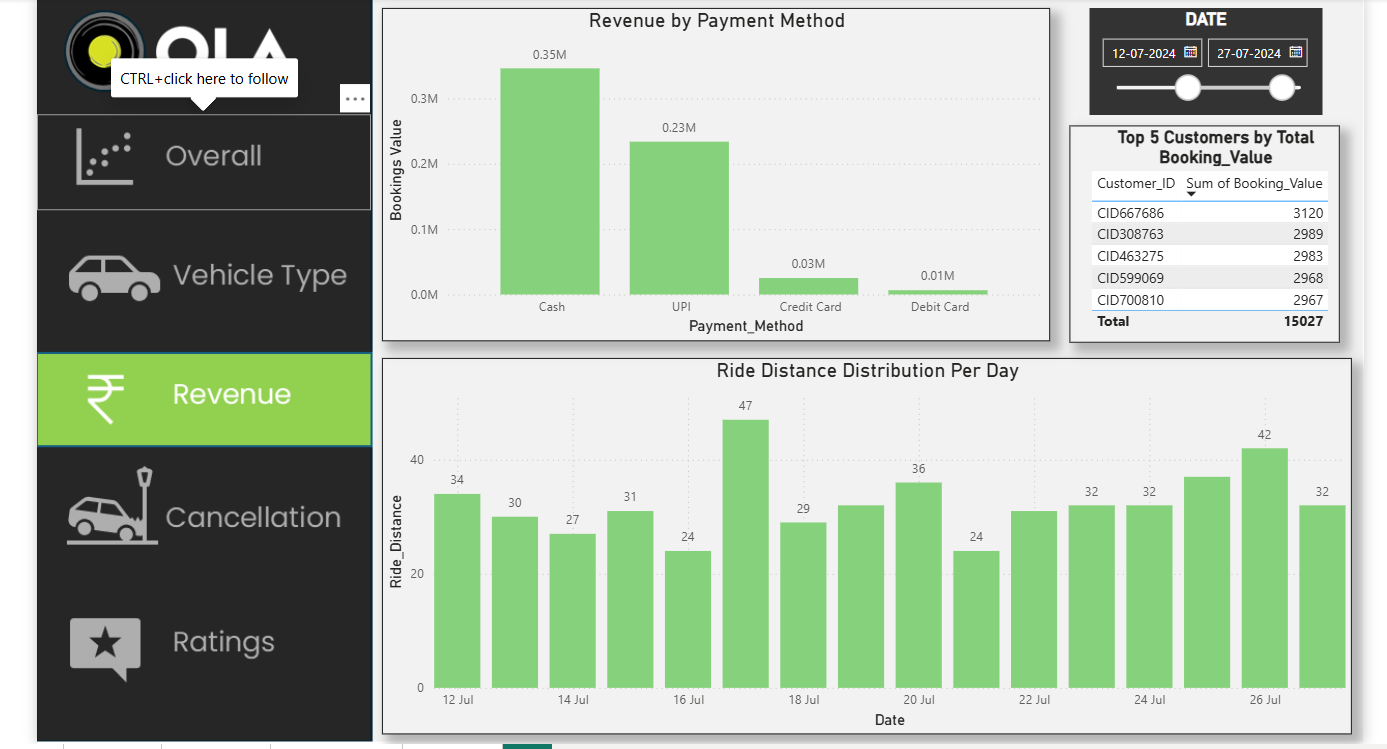

Layout of this report page (visuals, bound fields, positions):
{"tool":"powerbi","page":{"name":"Revenue","canvas":[1280,720],"ordinal":2},"visuals":[{"type":"actionButton","box":[0,223.8,322.5,92.5],"z":0},{"type":"actionButton","box":[0,446.2,322.5,92.5],"z":1000},{"type":"actionButton","box":[0,582.5,322.5,92.5],"z":2000},{"type":"actionButton","box":[0,112.5,322.5,92.5],"z":3000},{"type":"columnChart","title":"Revenue by Payment Method","fields":{"Category":["Bookings.Payment_Method"],"Y":["Sum(Bookings.Booking_Value)"]},"box":[333.3,10.1,644.9,321.7],"z":4000},{"type":"columnChart","title":"Ride Distance Distribution Per Day","fields":{"Y":["CountNonNull(Bookings.Ride_Distance)"],"Category":["Bookings.Date"]},"box":[333.3,347.7,936.4,363.6],"z":5000},{"type":"slicer","title":"DATE","fields":{"Values":["Bookings.Date"]},"box":[1015.7,10.1,225.1,102.4],"z":6000},{"type":"tableEx","title":"Top 5 Customers by Total Booking_Value","fields":{"Values":["Bookings.Customer_ID","Sum(Bookings.Booking_Value)"]},"box":[996.9,122.6,261.1,209.2],"z":7000}]}

Visuals, with their boxes in screenshot pixels (x1, y1, x2, y2):
actionButton: BBox(33, 226, 363, 320)
actionButton: BBox(33, 453, 363, 548)
actionButton: BBox(33, 593, 363, 688)
actionButton: BBox(33, 112, 363, 206)
"Revenue by Payment Method" columnChart: BBox(374, 7, 1034, 336)
"Ride Distance Distribution Per Day" columnChart: BBox(374, 352, 1333, 725)
"DATE" slicer: BBox(1073, 7, 1303, 112)
"Top 5 Customers by Total Booking_Value" tableEx: BBox(1053, 122, 1321, 336)
